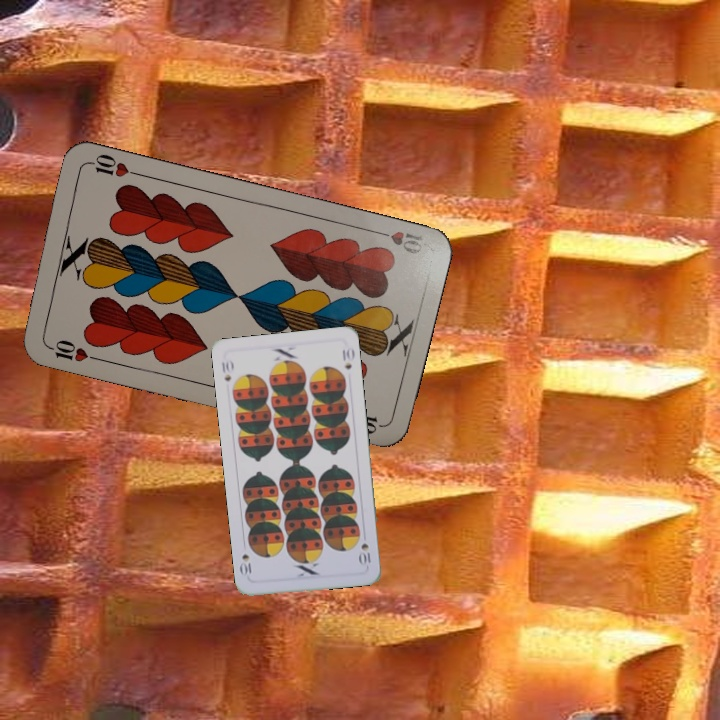H10: (42, 335, 101, 365), (370, 226, 426, 257)
S10: (217, 356, 236, 383), (356, 539, 373, 566)
